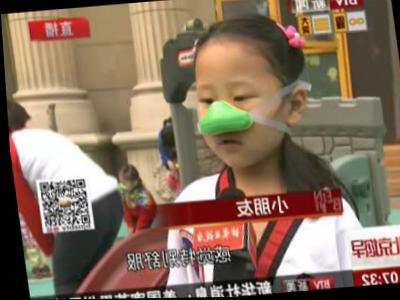WRONG: (186, 69, 287, 166)
